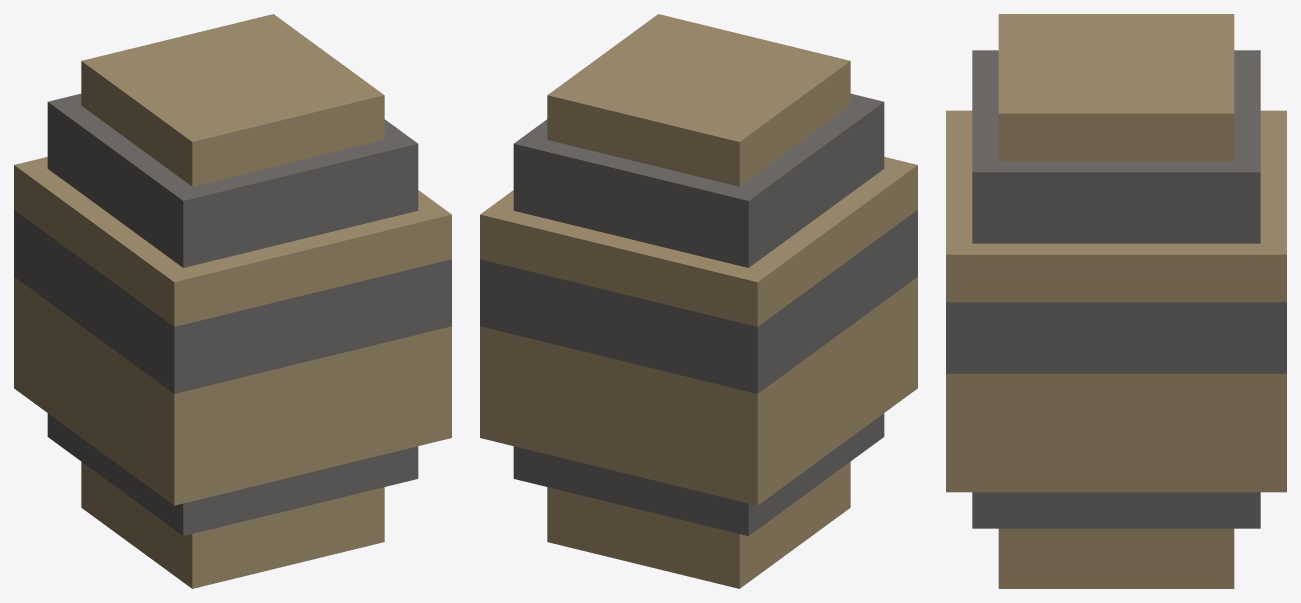
File: barril_01.glb
The picture shows the model from 3 angles, left to right: view 1: azimuth 30°, elevation 25°; view 2: azimuth 150°, elevation 25°; view 3: azimuth 270°, elevation 25°; orthographic projection. The views are drawn at different scales.
Parts seen in each view (by area): view 1: barril; view 2: barril; view 3: barril.
Part boxes in pixels (left/top/right/bottom): barril: left=14, top=14, right=451, bottom=588; barril: left=480, top=14, right=917, bottom=588; barril: left=946, top=14, right=1286, bottom=588.
Bounding box in the file's own units: 1 × 1.54 × 1.
